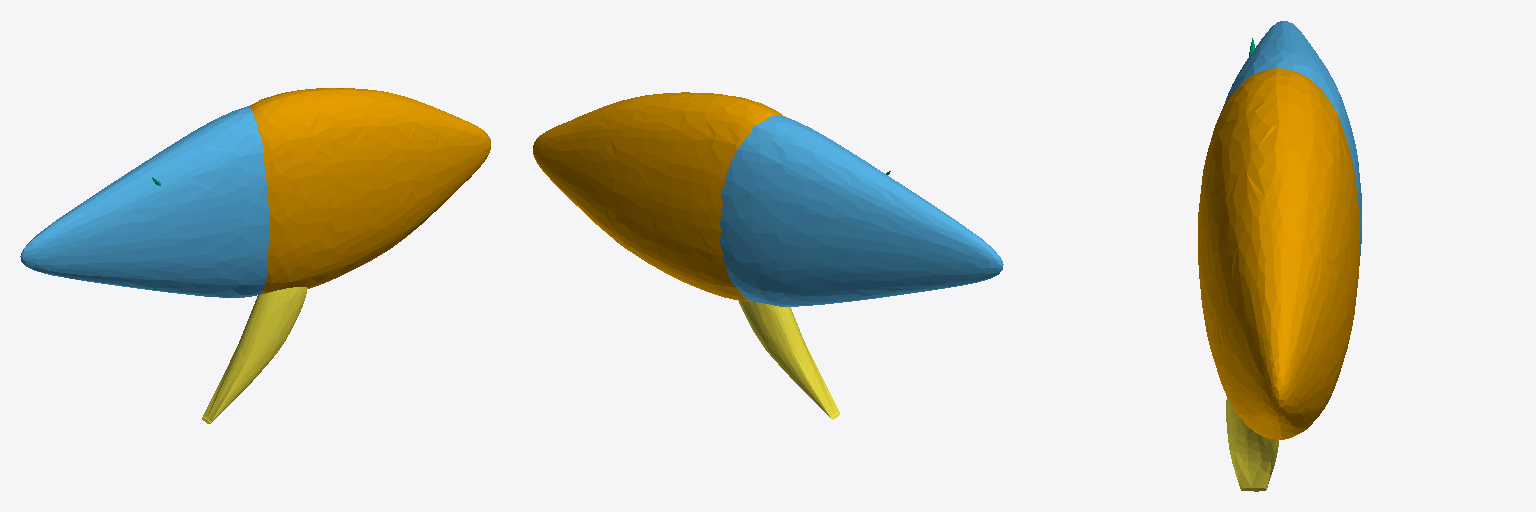
URDF robot description (fish1):
<?xml version="1.0" ?>
<!-- =================================================================================== -->
<!-- |    This document was autogenerated by xacro from Fish1.xacro                    | -->
<!-- |    EDITING THIS FILE BY HAND IS NOT RECOMMENDED                                 | -->
<!-- =================================================================================== -->
<robot name="fish1" xmlns:xacro="http://www.ros.org/wiki/xacro">
  <link name="base_link">
    <visual>
      <origin rpy="0 0 0" xyz="0 0 0"/>
      <geometry>
        <mesh filename="package://uwsim_models/uwsim_fish_urdf/Fish_models/Fish1_1_new.dae"/> 		<!--robot/Fish1/Fish1_1_new.obj-->
      </geometry>
    </visual>
  </link>

  <link name="body">
    <visual>
      <origin rpy="0 0 0" xyz="0 0 0"/>
      <geometry>
        <mesh filename="package://uwsim_models/uwsim_fish_urdf/Fish_models/Fish1_2_new.dae"/>		<!--"robot/Fish1/Fish1_2_new.obj"/-->
      </geometry>
    </visual>
  </link>

  <joint name="Slew" type="revolute">
    <parent link="base_link"/>
    <child link="body"/>
    <axis xyz="0 0 -1"/>
    <origin rpy="0 0 0" xyz="0 0 0"/>
    <limit effort="1000.0" lower="-0.5" upper="0.5" velocity="1.0"/>
  </joint>

  <link name="tail">
    <visual>
      <origin rpy="0 0 0" xyz="0 0.5 0"/>
      <geometry>
        <mesh filename="package://uwsim_models/uwsim_fish_urdf/Fish_models/Fish1_Tail_new.dae"/>	  	<!--"robot/Fish1/Fish1_Tail_new.obj"/-->
      </geometry>
    </visual>
  </link>

  <joint name="Shoulder" type="revolute">
    <parent link="body"/>
    <child link="tail"/>
    <axis xyz="0 0 -1"/>
    <origin rpy="0 0 0" xyz="-5.7 0 0"/>
    <limit effort="1000.0" lower="-0.5" upper="0.5" velocity="1.0"/>
  </joint>

 <link name="fin">
    <visual>
      <origin rpy="0 0 0" xyz="0 0 0"/>
      <geometry>
        <mesh filename="package://uwsim_models/uwsim_fish_urdf/Fish_models/Fish1_Fin_new.dae"/>		<!--"robot/Fish1/Fish1_Fin_new.obj"/-->
      </geometry>
    </visual>
  </link>

  <joint name="Elbow" type="revolute">
    <parent link="base_link"/>
    <child link="fin"/>
    <axis xyz="0 1 0"/>
    <origin rpy="0 0 0" xyz="0 0.5 -0.3"/>
    <limit effort="1000.0" lower="0" upper="0.5" velocity="1.0"/>
  </joint>

</robot>

--- Render facts (derived) ---
The picture shows the robot from 3 angles, left to right: view 1: azimuth 30°, elevation 25°; view 2: azimuth 150°, elevation 25°; view 3: azimuth 270°, elevation 25°; orthographic projection.
Model fish1 with 4 links and 3 joints (3 revolute), rooted at base_link, posed all joints at 0.
Links seen in each view (by area): view 1: base_link, body, fin; view 2: body, base_link, fin; view 3: base_link, body, fin.
Boxes of the visible links, <box> form: base_link: <box>249,88,490,293</box>; body: <box>20,106,269,297</box>; fin: <box>202,287,307,423</box>; body: <box>720,115,1003,306</box>; base_link: <box>533,92,784,301</box>; fin: <box>739,301,839,419</box>; base_link: <box>1198,68,1359,439</box>; body: <box>1223,21,1361,265</box>; fin: <box>1226,398,1278,491</box>.
Size in the robot's own frame: 32.33 by 6.17 by 19.71 metres.
Meshes: 4 distinct files referenced, 4 mesh visuals loaded (4 Collada DAE).
